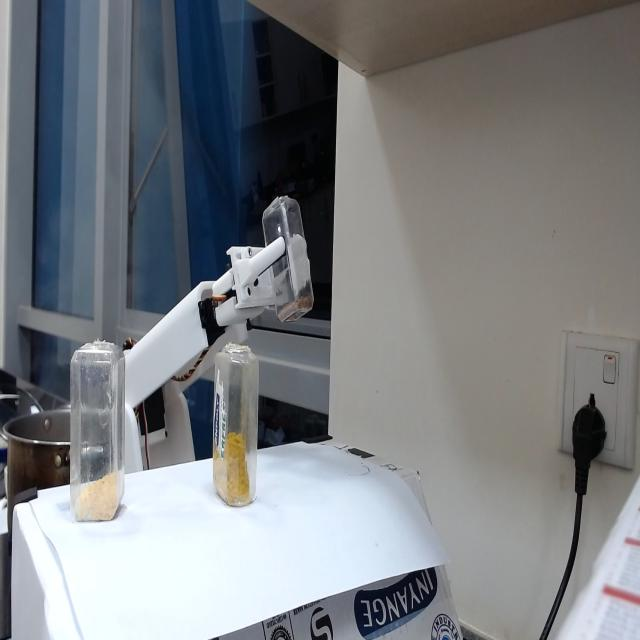cooking_pot: (5, 406, 70, 536)
curry_powder: (212, 433, 250, 504)
garlic_powder: (74, 469, 125, 522)
maggie_open: (277, 293, 314, 324)
